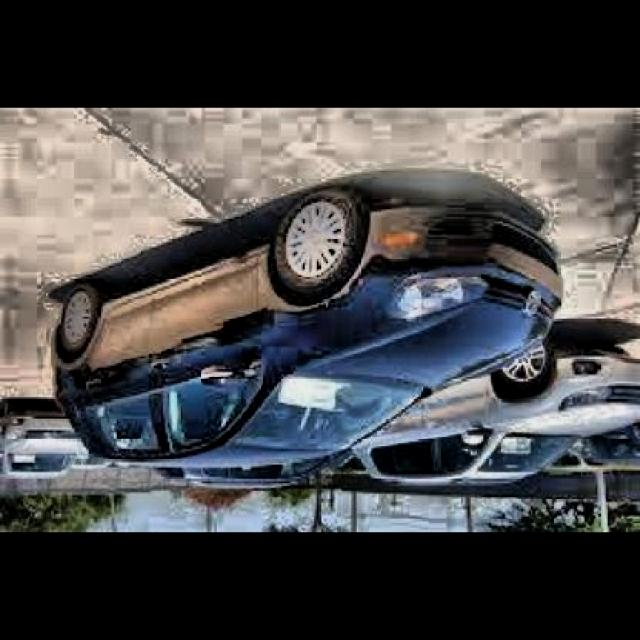black: (67, 175, 596, 474)
